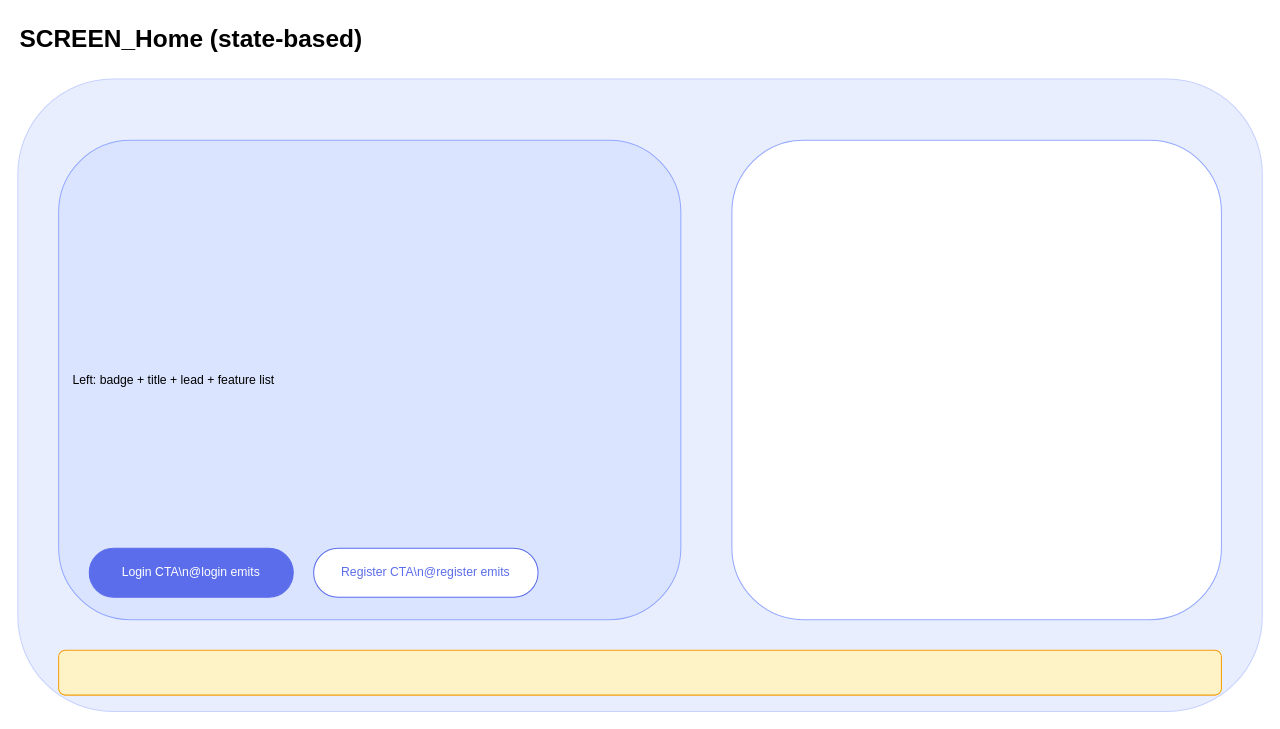
Some shapes in this 1280 by 729 pixel diagram are drawn without their labels. Here are the shapes that lost their labels. From the top down, the centre of each, then its label:
(976,379): Right: sample_chat.png + caption
(639,672): State B: Authenticated -> show UserList (same route: /)
